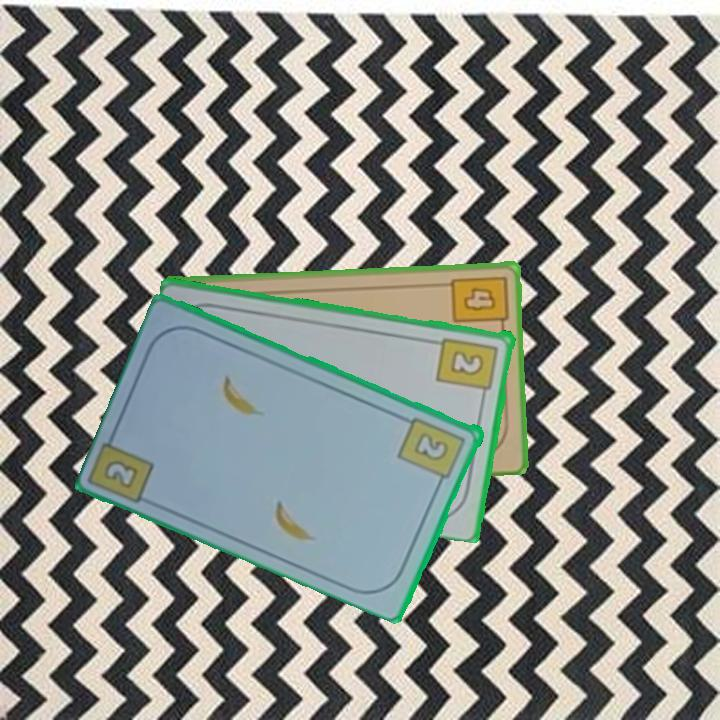2b: (395, 413, 469, 489), (434, 334, 501, 402), (100, 456, 142, 492)
4b: (448, 272, 511, 334)
